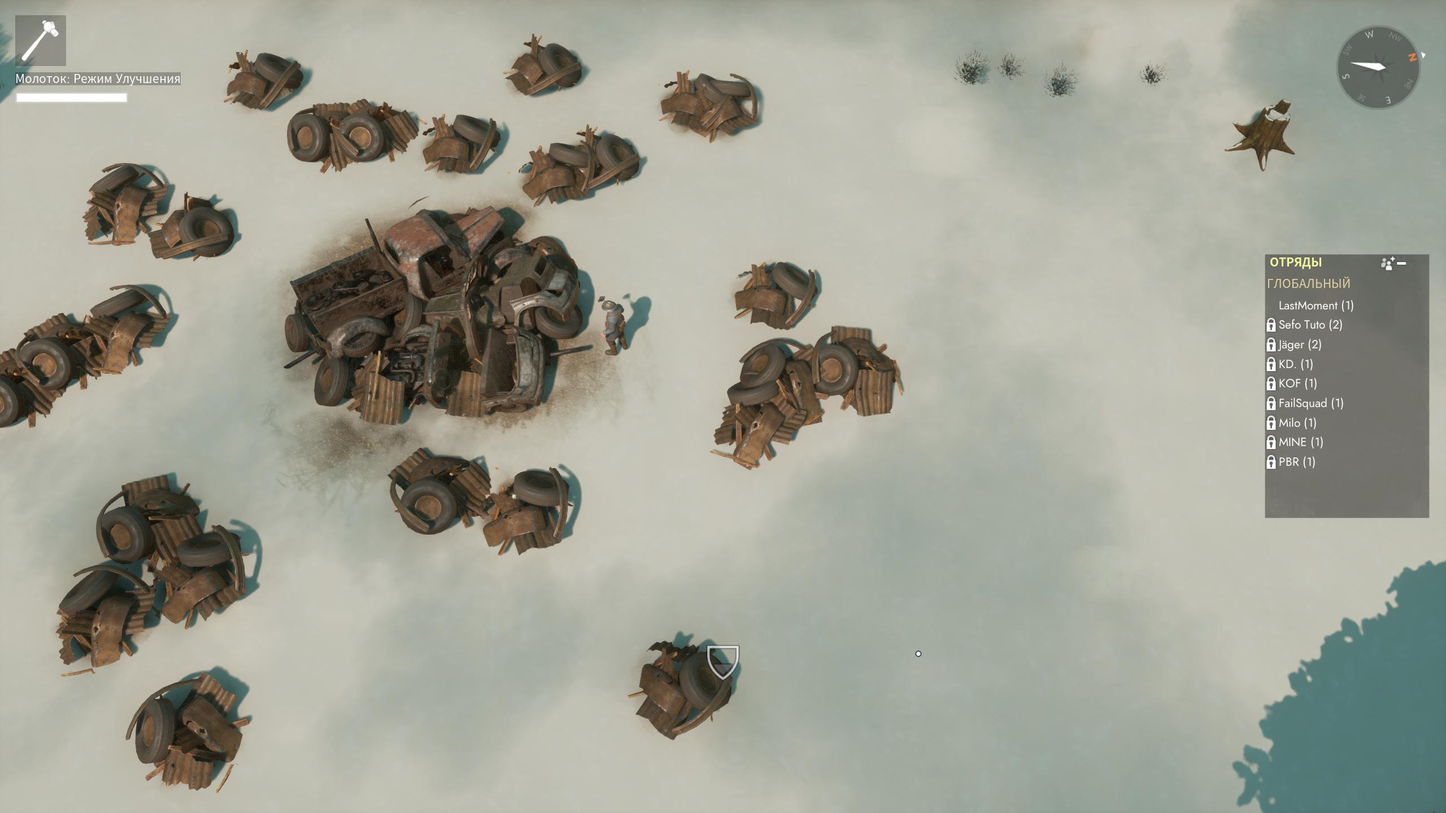player: (600, 298, 626, 355)
scrap_pile: (56, 476, 246, 667), (715, 326, 897, 468), (0, 286, 173, 427), (82, 162, 234, 259), (126, 673, 248, 789), (637, 641, 738, 738), (388, 449, 501, 534), (523, 126, 640, 206), (288, 99, 416, 171), (483, 468, 569, 552), (660, 71, 759, 141), (735, 262, 817, 329), (423, 114, 501, 172), (507, 36, 582, 95), (223, 53, 303, 108)
terrain: (285, 208, 581, 423)
